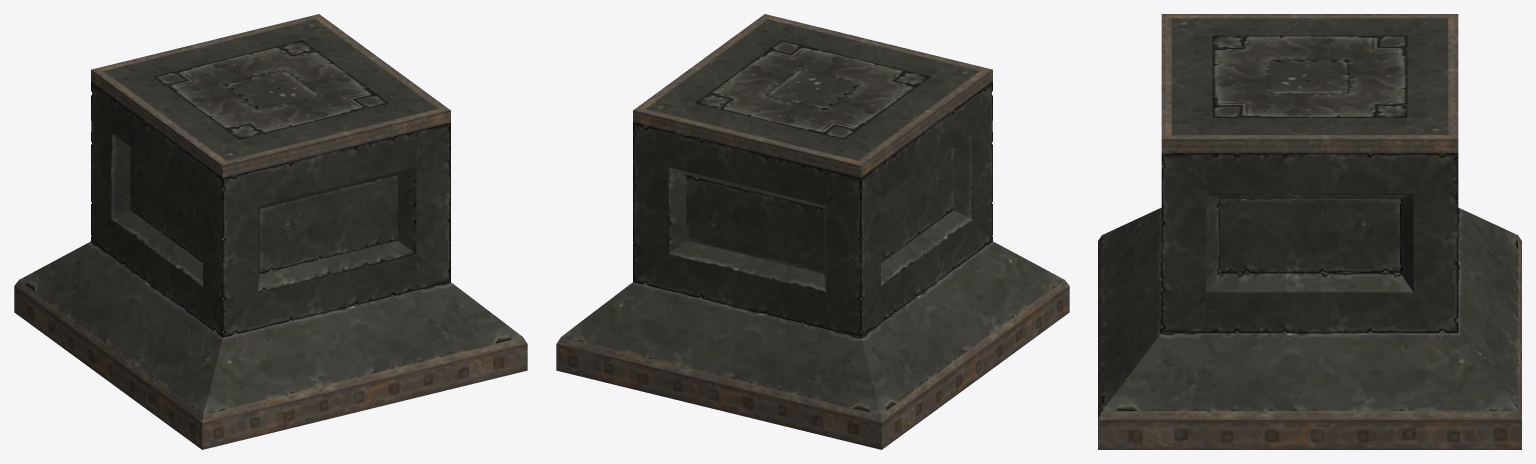
3 views of the same model, side by side, from view 1: azimuth 30°, elevation 25°; view 2: azimuth 150°, elevation 25°; view 3: azimuth 270°, elevation 25° (orthographic). The views are drawn at different scales.
Visible parts, largest first — view 1: SM_DR_Statue_Plinth_A_01_LOD0; view 2: SM_DR_Statue_Plinth_A_01_LOD0; view 3: SM_DR_Statue_Plinth_A_01_LOD0.
Boxes of the visible parts, bbox=[...] form: SM_DR_Statue_Plinth_A_01_LOD0: bbox=[14, 14, 527, 449]; SM_DR_Statue_Plinth_A_01_LOD0: bbox=[556, 14, 1069, 449]; SM_DR_Statue_Plinth_A_01_LOD0: bbox=[1098, 14, 1521, 449].
Bounding box in the file's own units: 1.76 × 1.3 × 1.76.
1 material, 1 textured.
